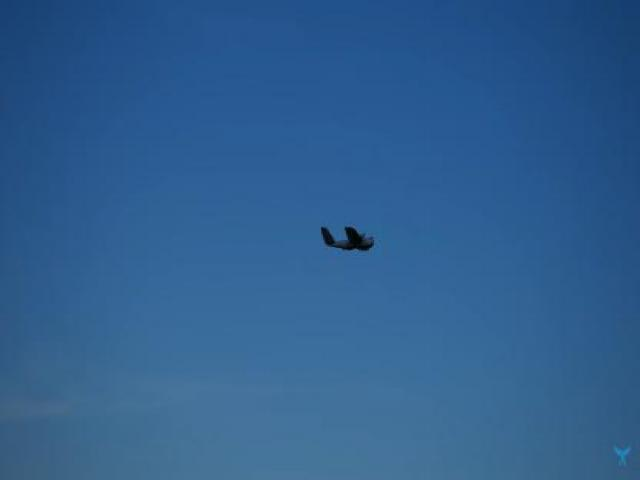uav: (316, 216, 379, 258)
